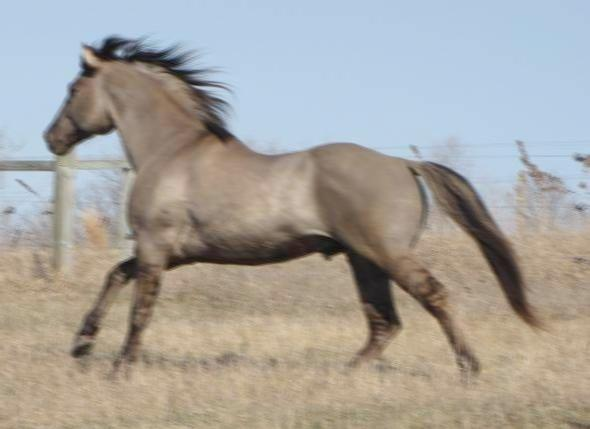horse: (42, 31, 552, 387)
